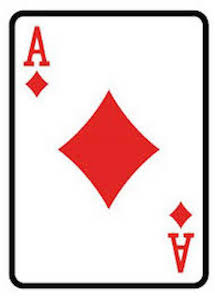AceOfDiamonds: (8, 8, 211, 291)
